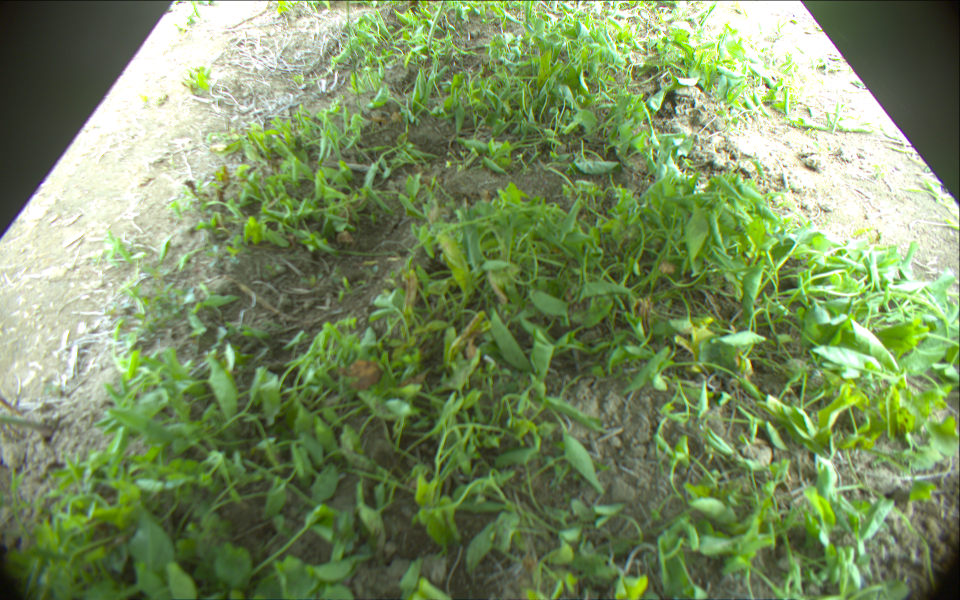aspa: (428, 1, 447, 48)
